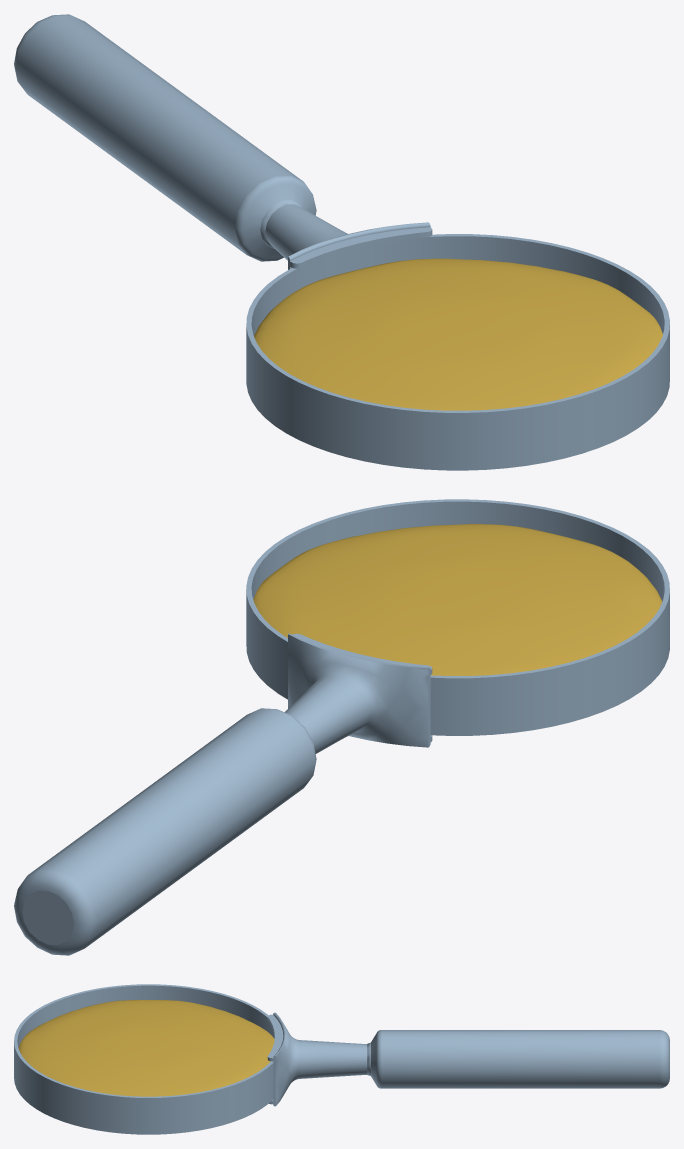
File: Magnifier.fbx
3 renders of one model, top to bottom at view 1: azimuth 30°, elevation 25°; view 2: azimuth 150°, elevation 25°; view 3: azimuth 270°, elevation 25°, orthographic. The views are drawn at different scales.
Visible parts, largest first — view 1: Magnifier, Magnifier_Glass; view 2: Magnifier, Magnifier_Glass; view 3: Magnifier, Magnifier_Glass.
Part boxes in pixels (bbox=[...]): Magnifier: bbox=[14, 14, 669, 470]; Magnifier_Glass: bbox=[254, 258, 662, 410]; Magnifier: bbox=[14, 499, 669, 955]; Magnifier_Glass: bbox=[253, 524, 662, 675]; Magnifier: bbox=[14, 984, 669, 1134]; Magnifier_Glass: bbox=[18, 1000, 274, 1096].
Bounding box in the file's own units: 8.22 × 1.79 × 20.02.
